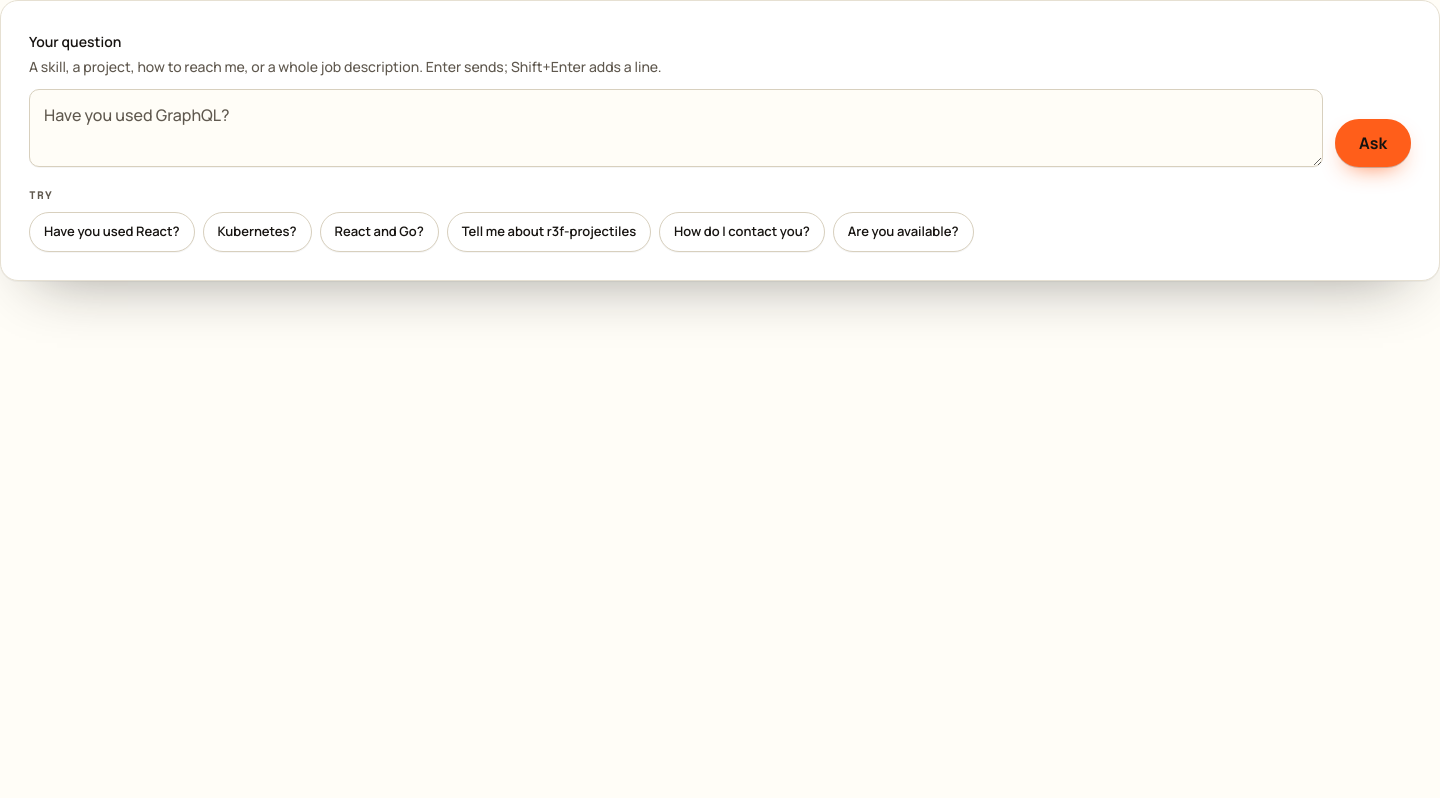
AskPanel › answers a typed question with cards, announces it, keeps focus in the box, and stores nothing
The width and height of the screenshot is (1440, 798).
Type "React and Go?" into the text box labelled "Your question".
click(676, 128); type("React and Go?")  # box [29,89,1323,167]
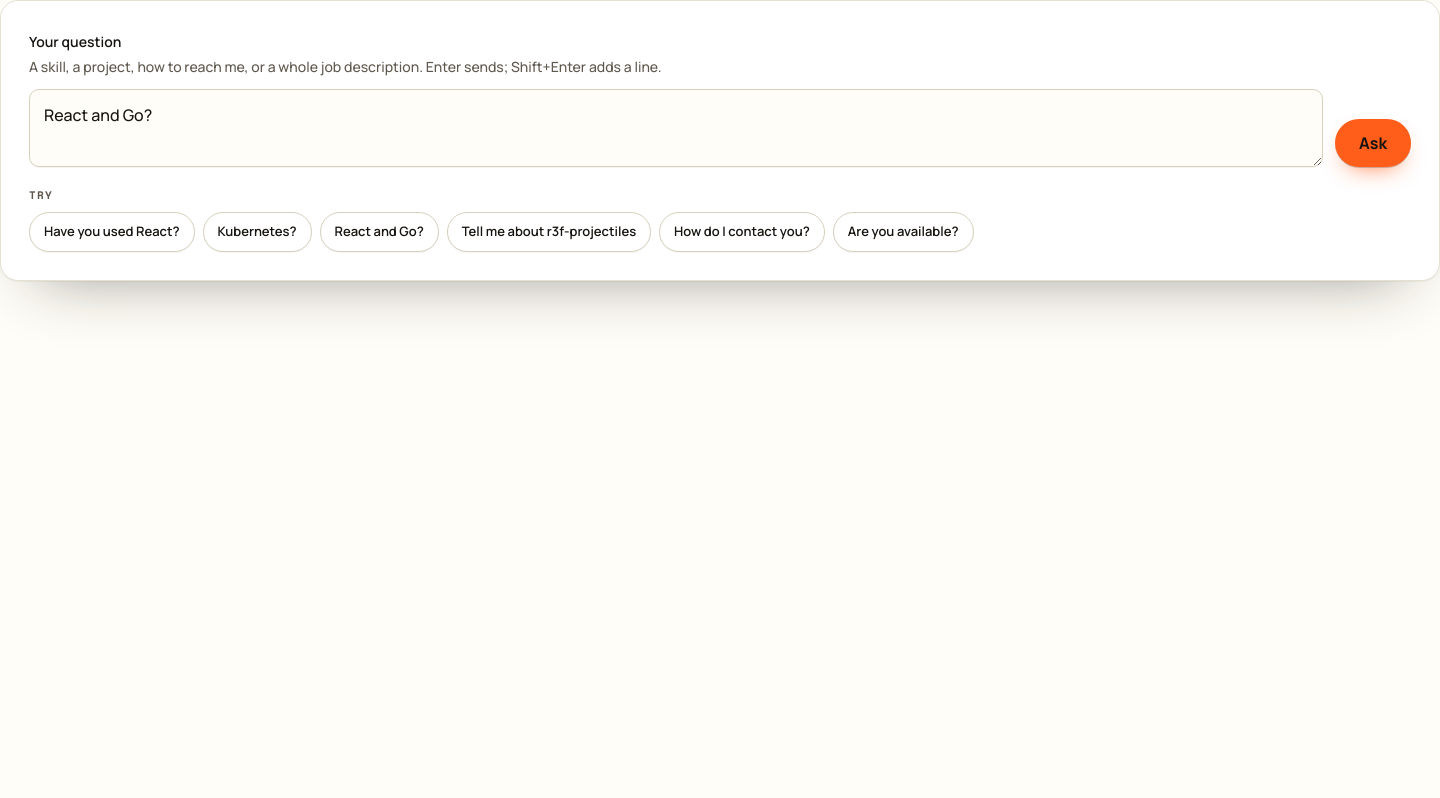
Press Enter in the text box labelled "Your question", box [29,89,1323,167]
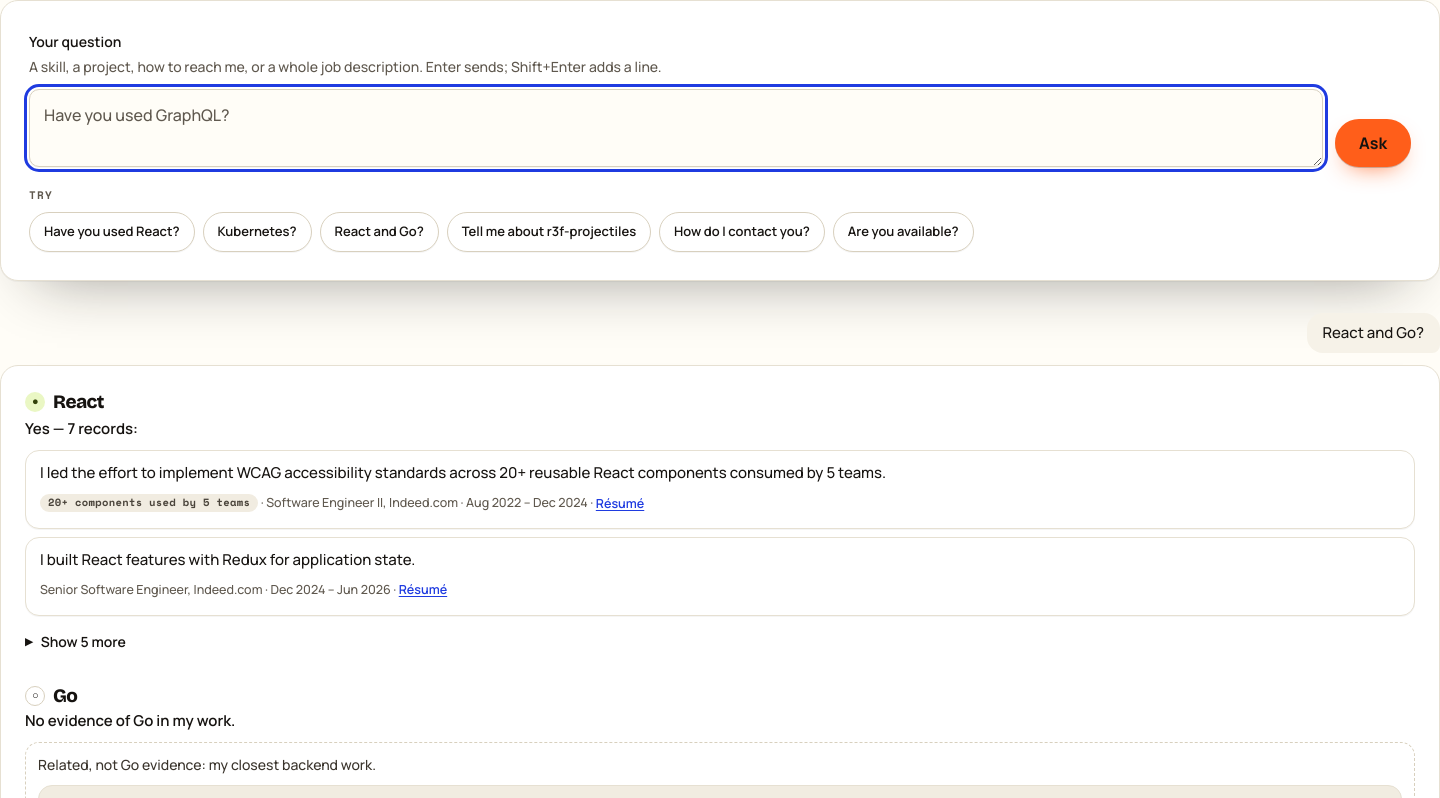
Result: the text with test id "no-evidence" reads "No evidence of Go in my work." at [25,710,235,731]
Result: the 7th list item is shown at [25,450,1415,529]
Result: the text box labelled "Your question" is empty at [29,89,1323,167]
